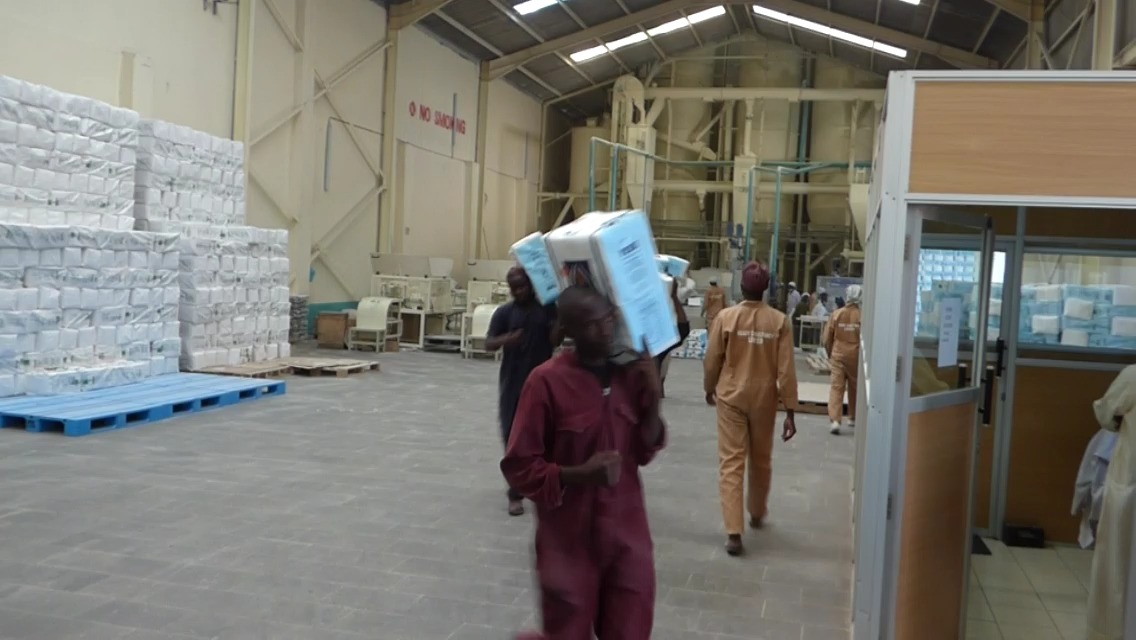wheat_flour_blue_label: (539, 207, 679, 375)
